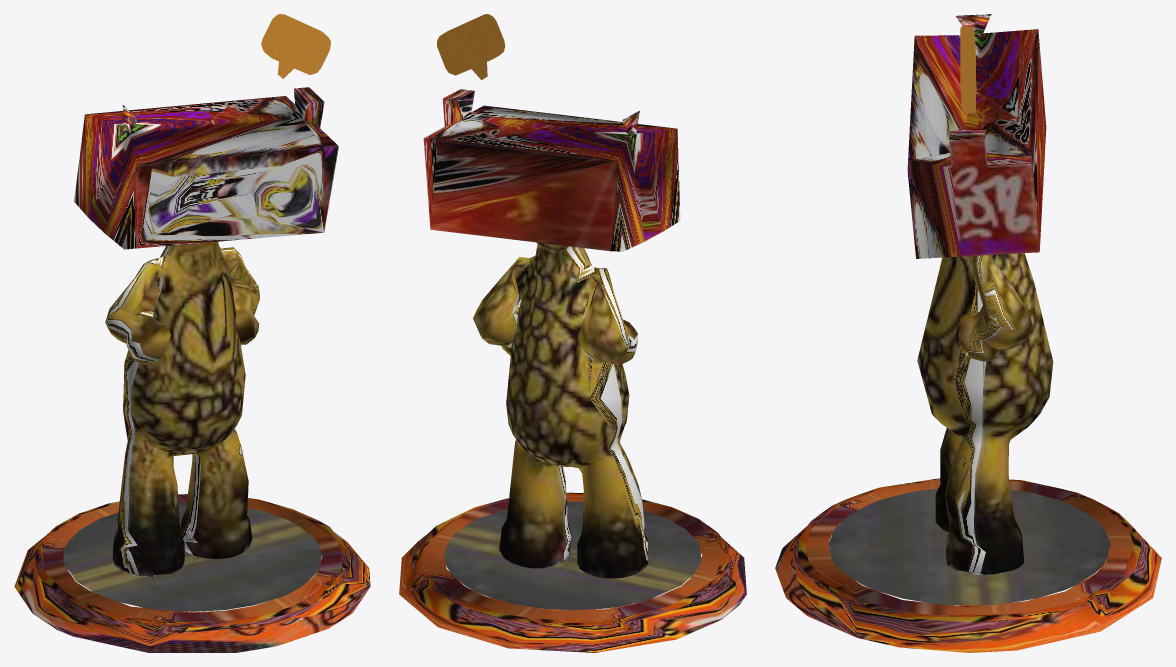
3 renders of one model, left to right at view 1: azimuth 30°, elevation 25°; view 2: azimuth 150°, elevation 25°; view 3: azimuth 270°, elevation 25°, orthographic. The views are drawn at different scales.
Size of the model in its own units: 1.45 by 2.43 by 1.44.
Materials: 5 (5 with a texture image).
